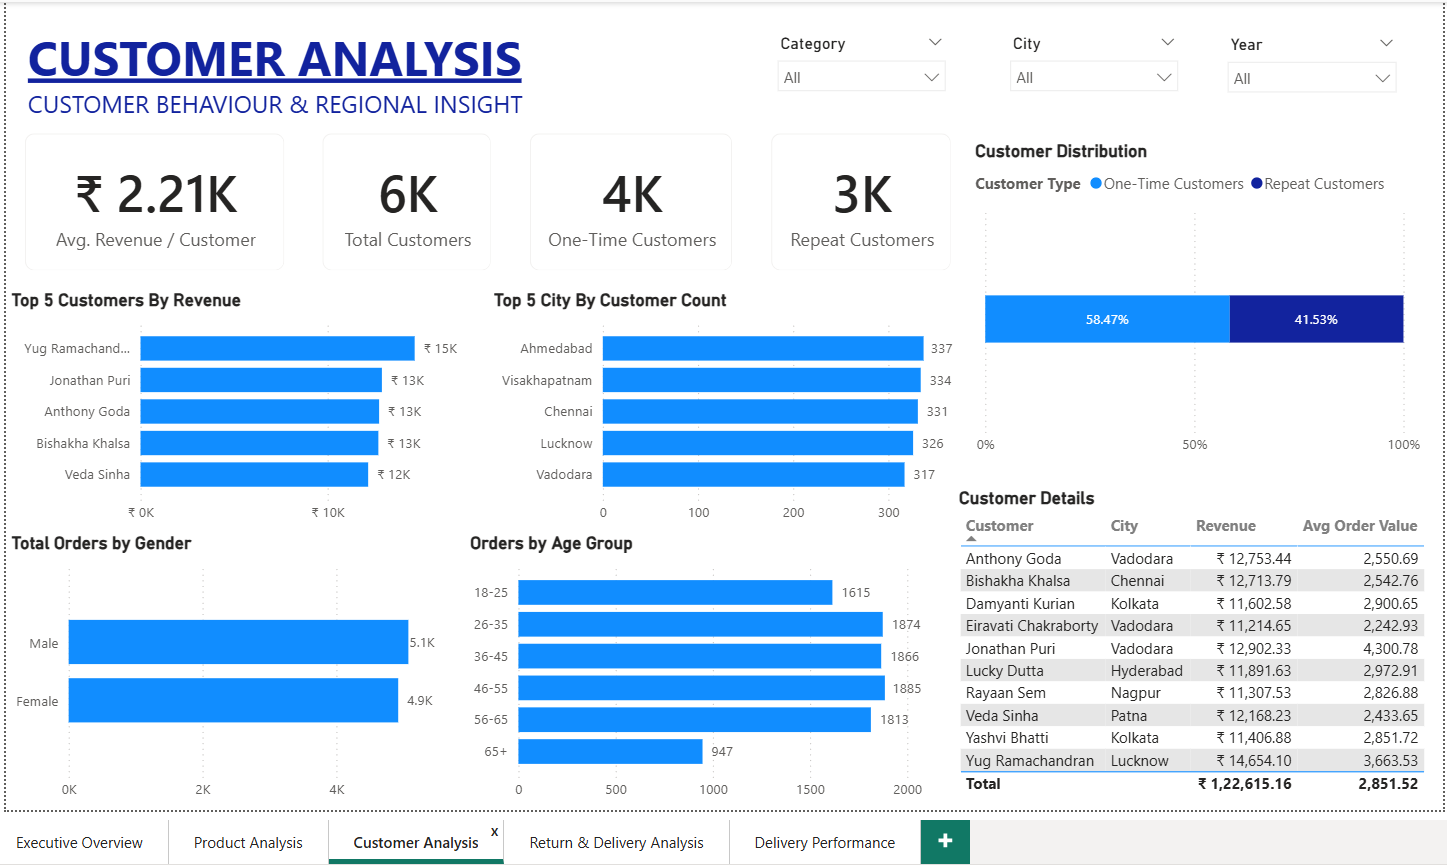

What the dashboard file says about the page in this screenshot:
{"tool":"powerbi","page":{"name":"Customer Analysis","canvas":[1280,720],"ordinal":2},"visuals":[{"type":"cardVisual","fields":{"Data":["orders.One-Time Customers"]},"box":[449.8,100.4,214.4,156.1],"z":0},{"type":"cardVisual","fields":{"Data":["orders.Total Customers"]},"box":[265.2,100.4,184.6,156.1],"z":1000},{"type":"cardVisual","fields":{"Data":["orders.Repeat Customers"]},"box":[664.2,100.4,194.5,156.1],"z":2000},{"type":"cardVisual","fields":{"Data":["orders.Revenue / Customer"]},"box":[0,100.4,265.2,156.1],"z":3000},{"type":"clusteredBarChart","title":"Top 5 Customers By Revenue","fields":{"Y":["orders.Total Revenue"],"Category":["customer.C_Name"]},"box":[0,256.5,430,216.8],"z":5000},{"type":"clusteredBarChart","title":" Orders by Age Group","fields":{"Category":["customer.Age Demographic"],"Y":["orders.Total Orders"]},"box":[408.9,473.3,425,246.6],"z":6000},{"type":"clusteredBarChart","title":"Top 5 City By Customer Count","fields":{"Category":["customer.City"],"Y":["orders.Total Customers"]},"box":[430,256.5,428.7,216.8],"z":7000},{"type":"hundredPercentStackedBarChart","title":"Customer Distribution","fields":{"Y":["Customer Type.Customer Type Count"],"Series":["Customer Type.Customer Type"]},"box":[858.7,123.9,406.4,288.7],"z":8000},{"type":"clusteredBarChart","fields":{"Category":["customer.Gender"],"Y":["orders.Total Orders"]},"box":[0,473.3,394,246.6],"z":9000},{"type":"tableEx","title":"Customer Details","fields":{"Values":["customer.C_Name","customer.City","orders.Total Revenue","orders.Average Order Value"]},"box":[844.1,432.6,435.6,286.9],"z":10000},{"type":"textbox","box":[14.9,14.9,649.3,95.4],"z":10500},{"type":"slicer","fields":{"Values":["customer.City"]},"box":[883.5,23.5,170,75.6],"z":11000},{"type":"slicer","fields":{"Values":["product.Category"]},"box":[677.3,23.5,170,75.6],"z":13000},{"type":"slicer","fields":{"Values":["date.Year"]},"box":[1077.5,24,171,75.6],"z":14000}]}

Visuals, with their boxes on the page's 1280x720 design canvas (x1, y1, x2, y2). These are canvas units, not pixel positions in the 1447x865 screenshot, which may show the page scaled, cropped or inside an application window:
cardVisual - orders.One-Time Customers: locate(450, 100, 664, 256)
cardVisual - orders.Total Customers: locate(265, 100, 450, 256)
cardVisual - orders.Repeat Customers: locate(664, 100, 859, 256)
cardVisual - orders.Revenue / Customer: locate(0, 100, 265, 256)
"Top 5 Customers By Revenue" clusteredBarChart: locate(0, 256, 430, 473)
" Orders by Age Group" clusteredBarChart: locate(409, 473, 834, 720)
"Top 5 City By Customer Count" clusteredBarChart: locate(430, 256, 859, 473)
"Customer Distribution" hundredPercentStackedBarChart: locate(859, 124, 1265, 413)
clusteredBarChart - customer.Gender x orders.Total Orders: locate(0, 473, 394, 720)
"Customer Details" tableEx: locate(844, 433, 1280, 720)
textbox: locate(15, 15, 664, 110)
slicer - customer.City: locate(884, 24, 1054, 99)
slicer - product.Category: locate(677, 24, 847, 99)
slicer - date.Year: locate(1078, 24, 1248, 100)
